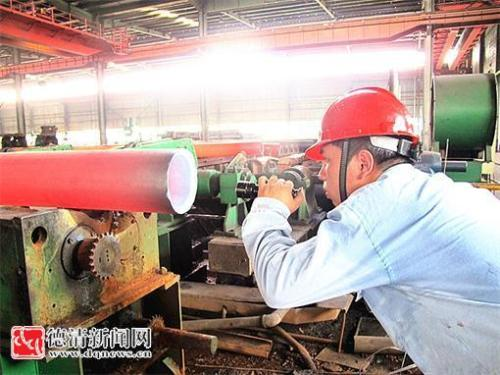hard-hat: (304, 86, 420, 162)
person: (240, 86, 500, 375)
